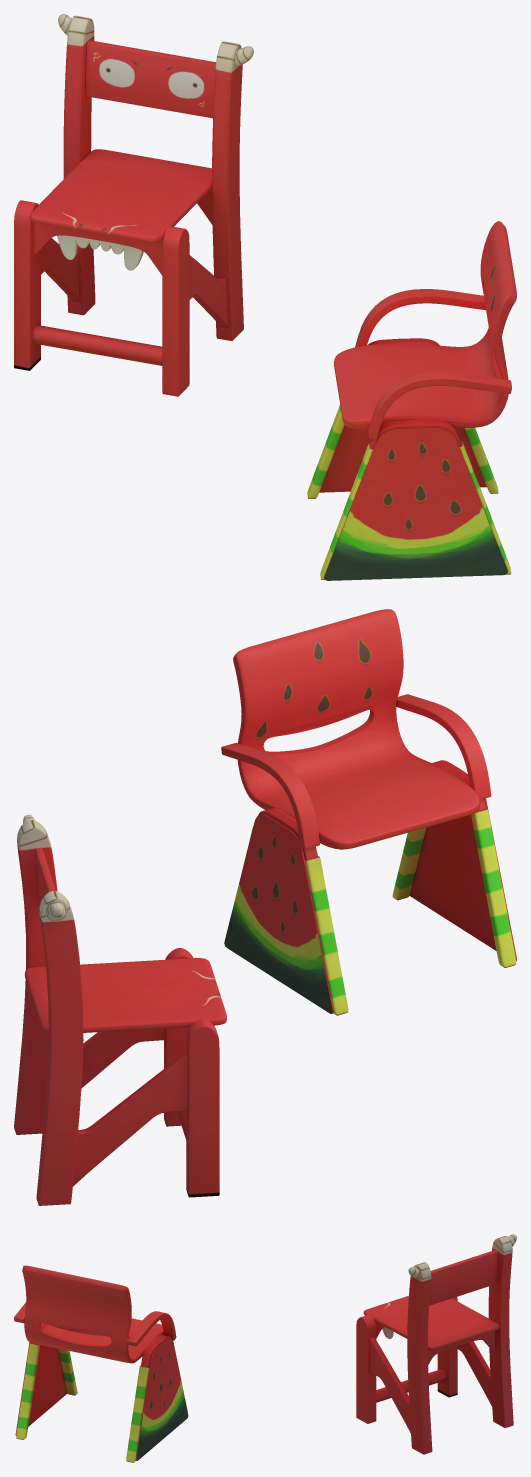
Rendered from Chair_LOD1.glb.
3 views of the same model, one above another, from view 1: azimuth 30°, elevation 25°; view 2: azimuth 150°, elevation 25°; view 3: azimuth 270°, elevation 25° (orthographic). The views are drawn at different scales.
Visible parts, largest first — view 1: Chair 1_Retopo.001_LOD1; view 2: Chair 1_Retopo.001_LOD1; view 3: Chair 1_Retopo.001_LOD1.
Boxes of the visible parts, bbox=[...] form: Chair 1_Retopo.001_LOD1: bbox=[14, 14, 516, 580]; Chair 1_Retopo.001_LOD1: bbox=[14, 609, 516, 1205]; Chair 1_Retopo.001_LOD1: bbox=[14, 1234, 516, 1462].
Bounding box in the file's own units: 0.8644 × 0.9979 × 2.44.
1 material, 1 textured.
